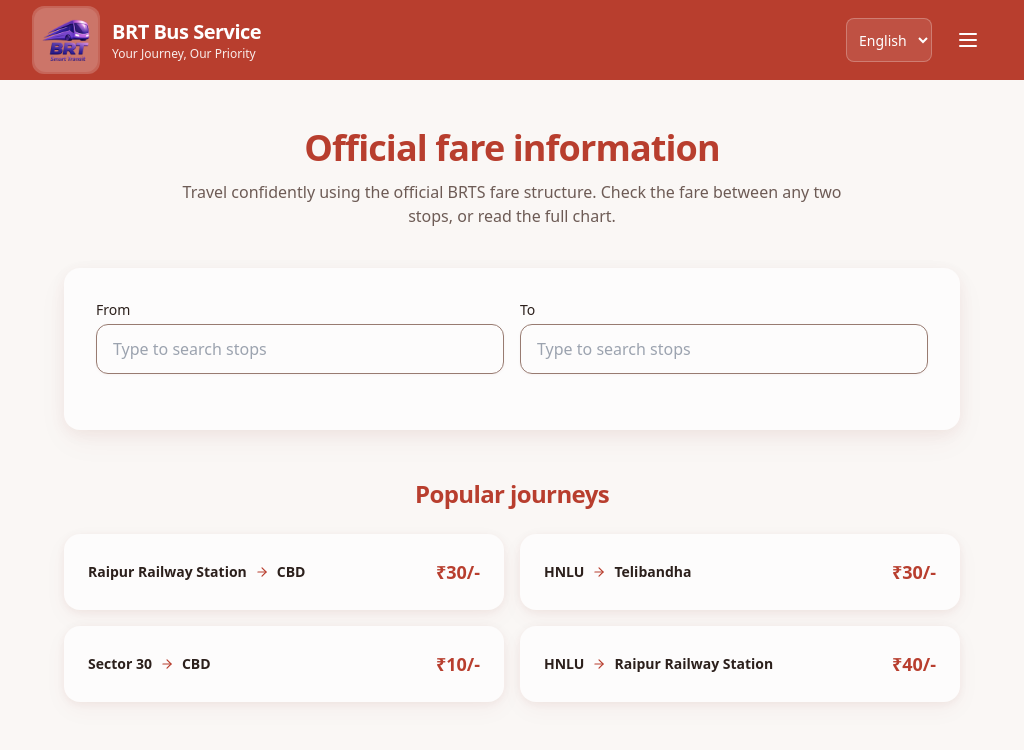
Test: checking a fare between two stops › refuses a journey that starts and ends at the same stop
Type "CBD" into the field labelled "From". click: x=300, y=349
box: [96, 324, 504, 374]
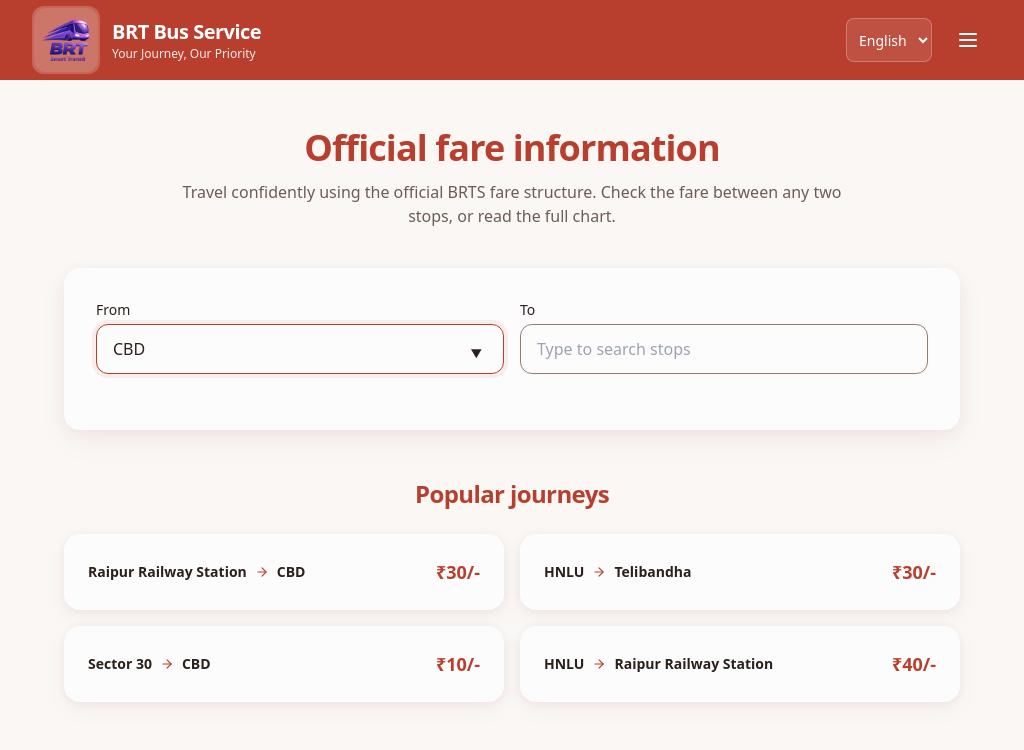
Type "CBD" into the field labelled "To". click: x=724, y=349
box: [520, 324, 928, 374]
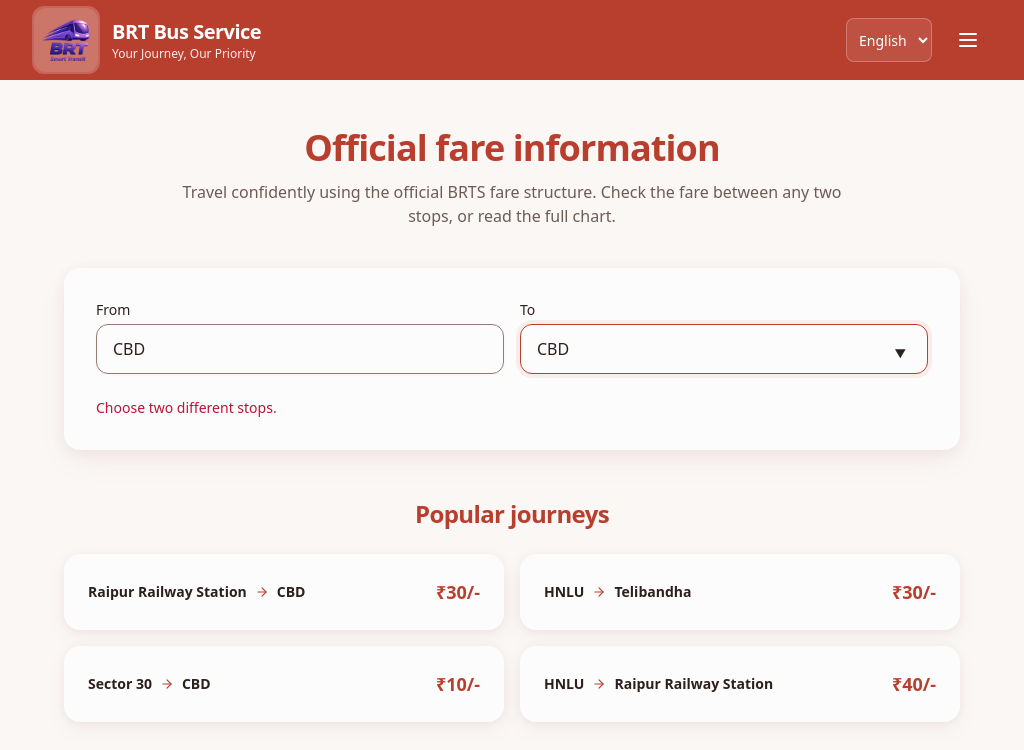
Result: the text "Choose two different stops." is shown at [96, 398, 277, 417]
